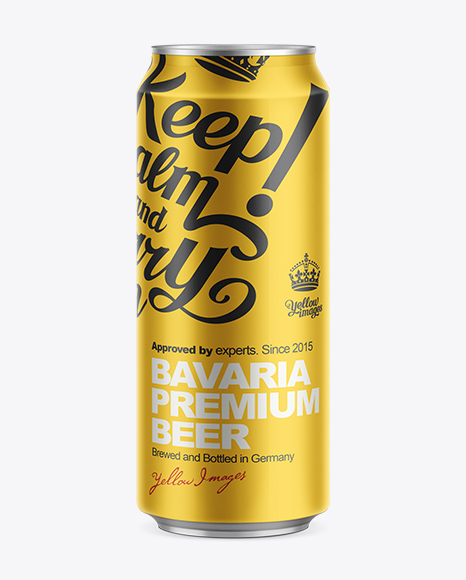beer can: (133, 44, 331, 541)
